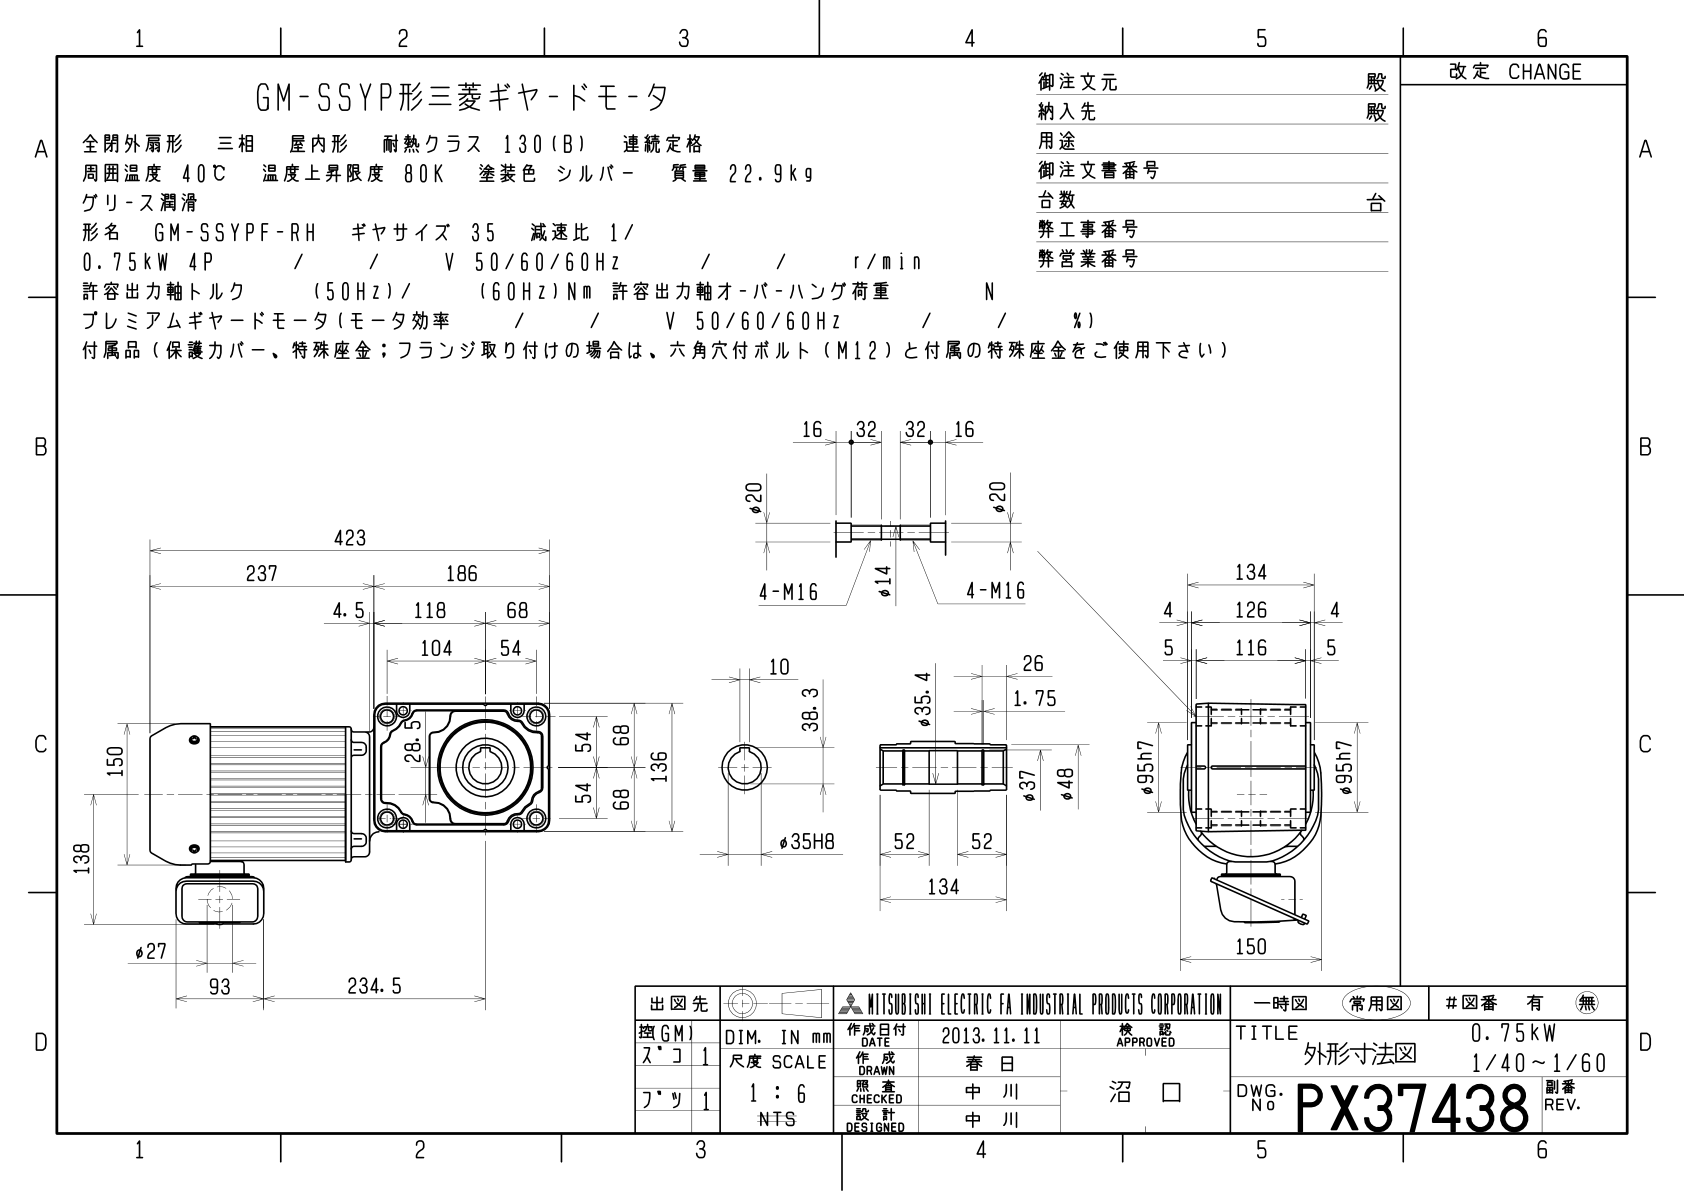GM_SSYP_屋内_三相: (63, 398, 1385, 980)
